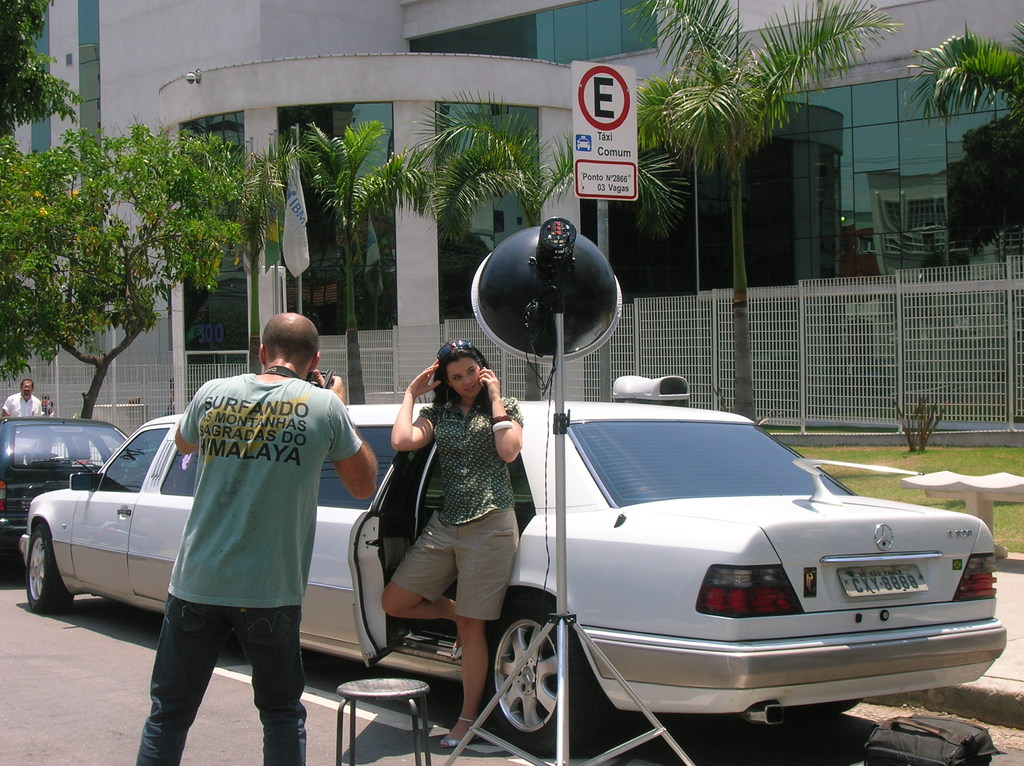Car: (17, 378, 1006, 755), (0, 412, 142, 572)
